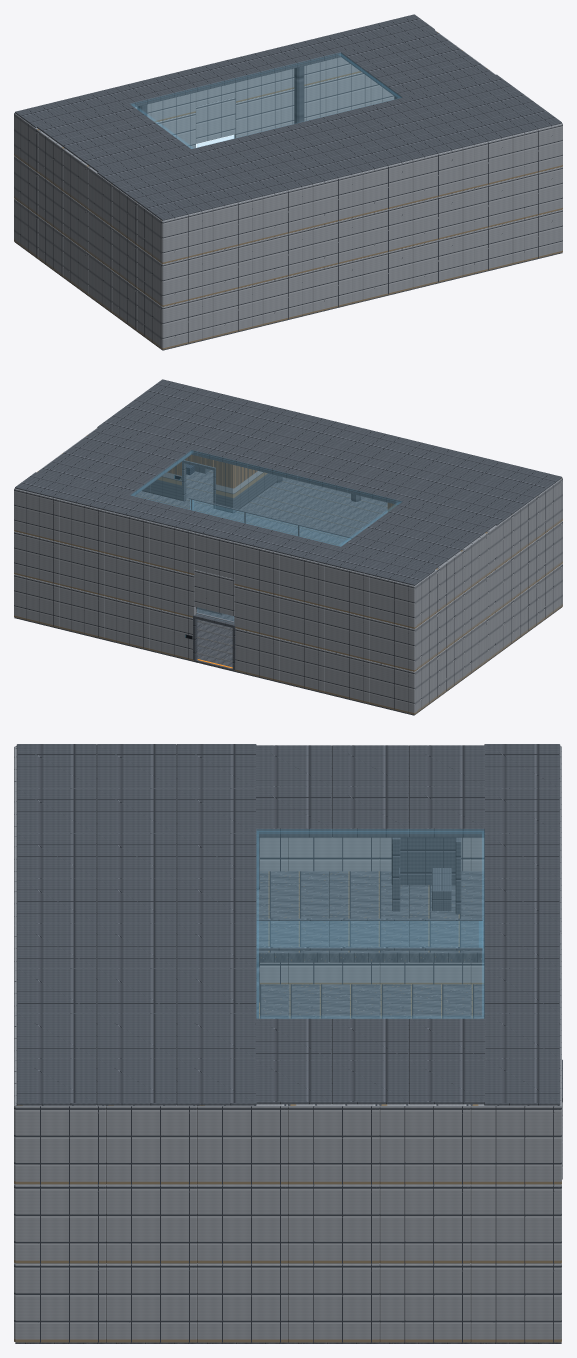
Rendered from preface_residential_sector.glb.
3 views of the same model, one above another, from view 1: azimuth 30°, elevation 25°; view 2: azimuth 150°, elevation 25°; view 3: azimuth 270°, elevation 25° (orthographic). The views are drawn at different scales.
Parts seen in each view (by area): view 1: Residential_Hallway_Atrium, Atrium_Skylight_And_CurtainGlass, Ground_Service_Vestibule; view 2: Residential_Hallway_Atrium, Ground_Service_Vestibule, Atrium_Skylight_And_CurtainGlass, Upper_Mezzanine_Walkway, Room_2B_Neighbor_Balcony_Suite, Open_Portal_Sector_Exit, Open_Portal_202; view 3: Residential_Hallway_Atrium, Atrium_Skylight_And_CurtainGlass, Upper_Mezzanine_Walkway, Alcove_2C_Upper_Vent_Chase, Ground_Service_Vestibule.
Boxes of the visible parts, <box> form: Residential_Hallway_Atrium: <box>14,14,562,350</box>; Atrium_Skylight_And_CurtainGlass: <box>131,52,401,148</box>; Ground_Service_Vestibule: <box>135,57,394,148</box>; Residential_Hallway_Atrium: <box>14,379,562,715</box>; Ground_Service_Vestibule: <box>14,489,413,714</box>; Atrium_Skylight_And_CurtainGlass: <box>131,450,401,620</box>; Upper_Mezzanine_Walkway: <box>135,470,387,546</box>; Room_2B_Neighbor_Balcony_Suite: <box>142,454,277,513</box>; Open_Portal_Sector_Exit: <box>185,614,235,669</box>; Open_Portal_202: <box>174,460,215,508</box>; Residential_Hallway_Atrium: <box>14,744,561,1343</box>; Atrium_Skylight_And_CurtainGlass: <box>256,829,484,1018</box>; Upper_Mezzanine_Walkway: <box>256,871,484,962</box>; Alcove_2C_Upper_Vent_Chase: <box>391,837,461,914</box>; Ground_Service_Vestibule: <box>560,747,561,1341</box>.
Bounding box in the file's own units: 28.08 × 8.86 × 18.08.
Materials: 4 (4 with a texture image).
